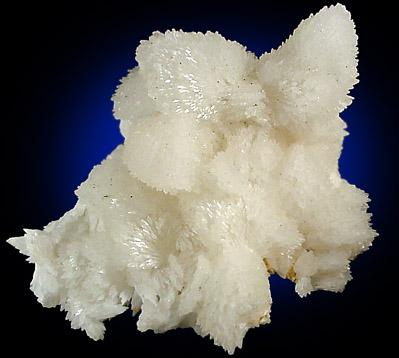calcite: (8, 4, 378, 354)
